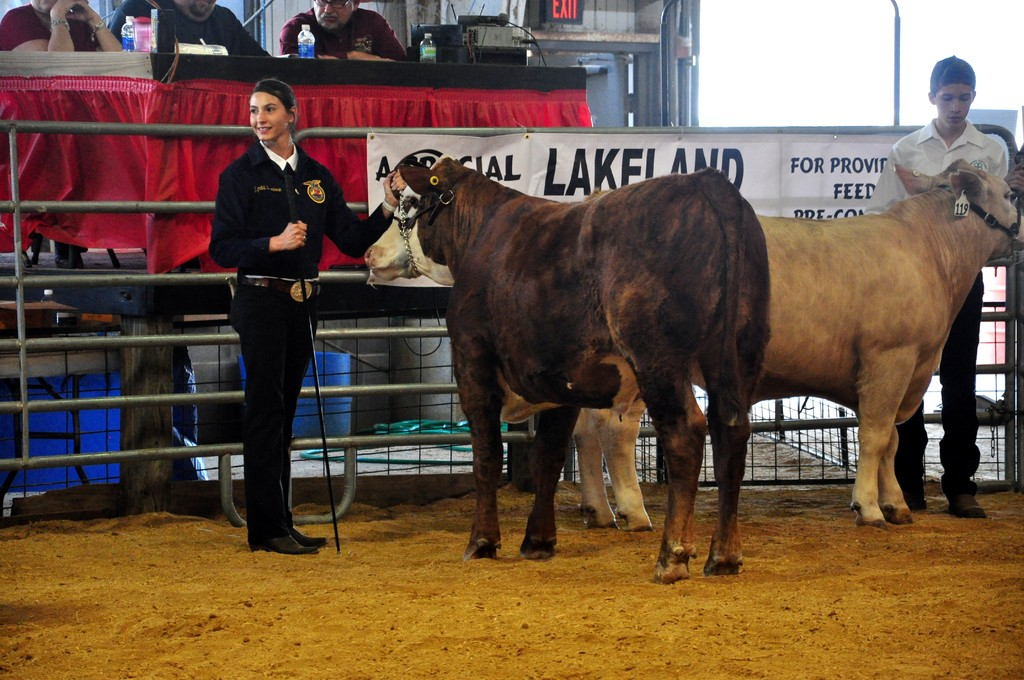Person: (202, 73, 406, 554), (861, 49, 1010, 515), (101, 0, 270, 58), (279, 0, 406, 60), (0, 0, 124, 56)
